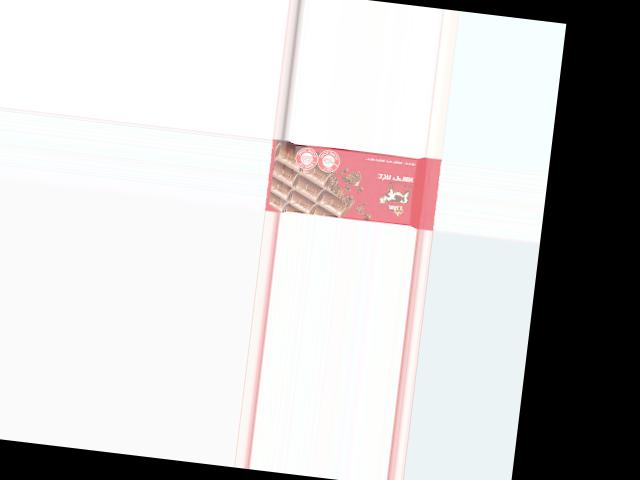chocolate: (266, 139, 443, 230)
